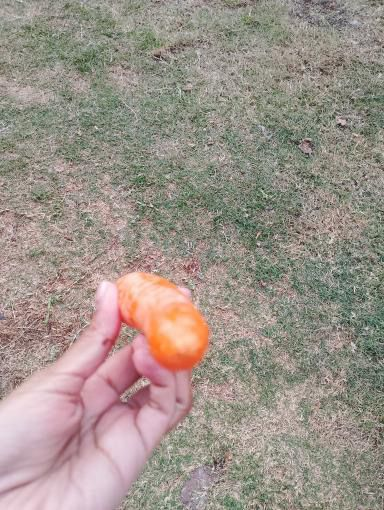carrot: (98, 254, 236, 386)
